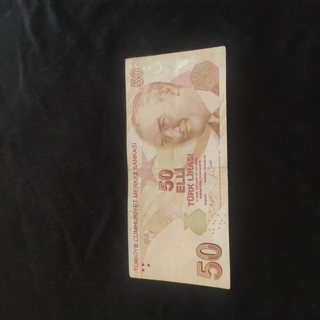50TLFront: (124, 45, 231, 289)
